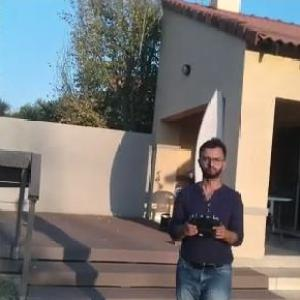follow: (163, 130, 248, 299)
